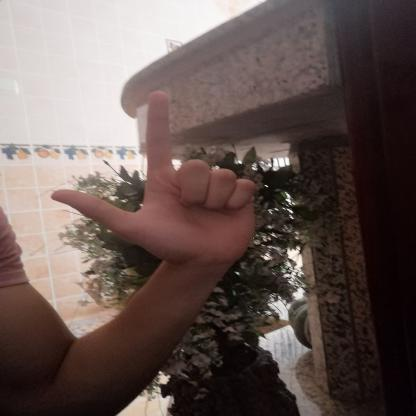LAAM: (34, 76, 268, 278)
